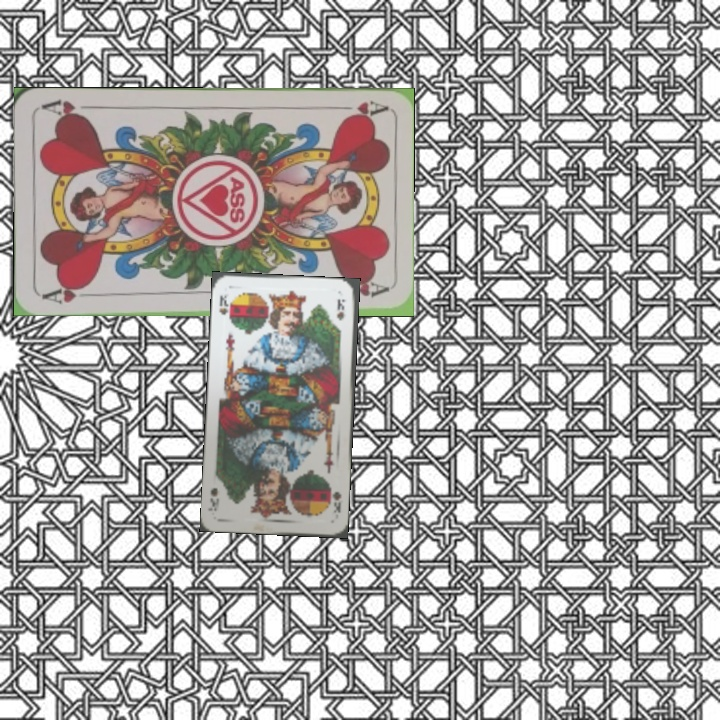HA: (38, 280, 97, 306), (329, 97, 388, 122)
SK: (328, 487, 344, 515), (215, 291, 231, 317)
